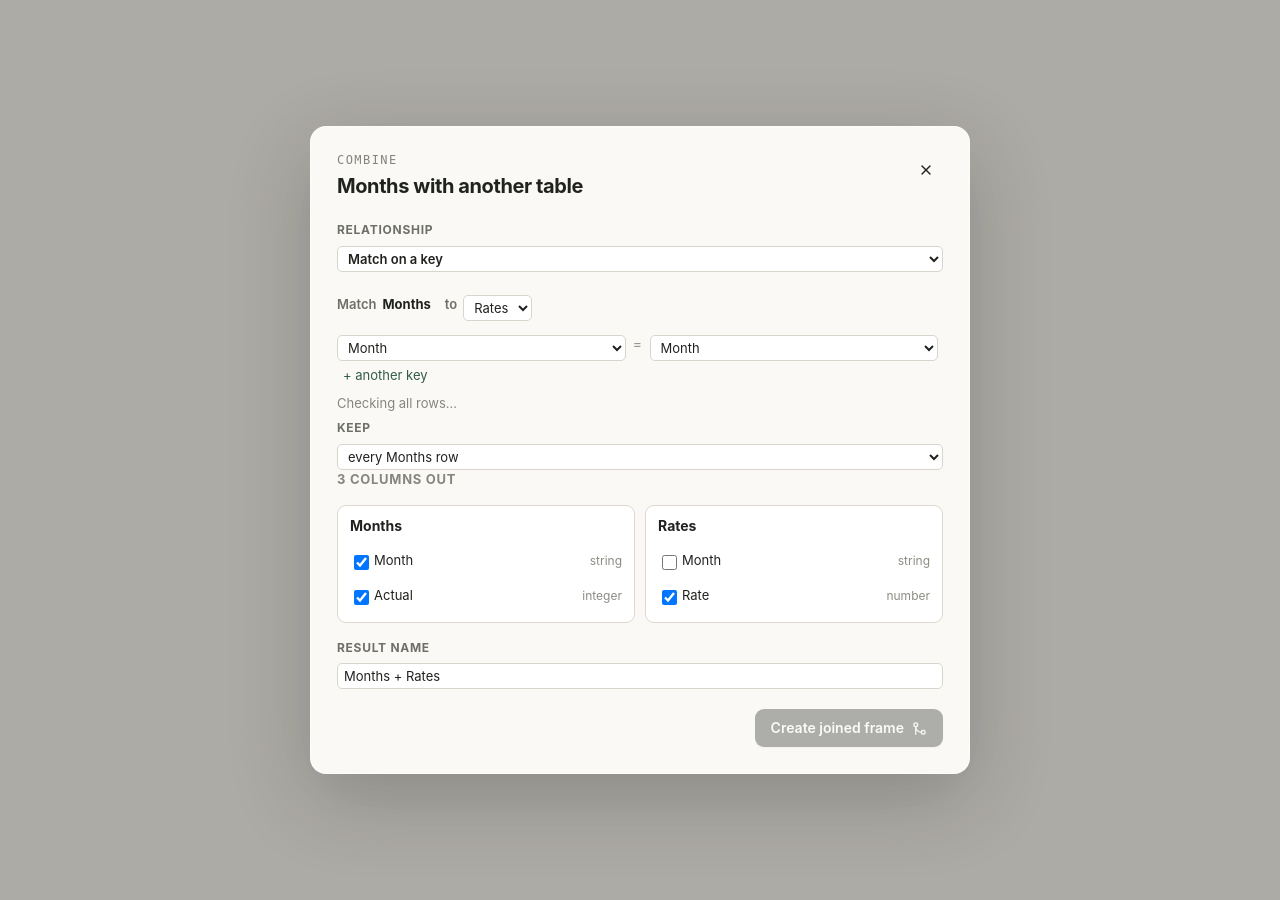
Test case: combine relationships › refuses a pair whose counts do not fit the chosen fill, and says which
This screenshot has width=1280, height=900.
Select "Same rows in order" in the dropdown labelled "Relationship" at x=640, y=258, box [337,246,943,272]
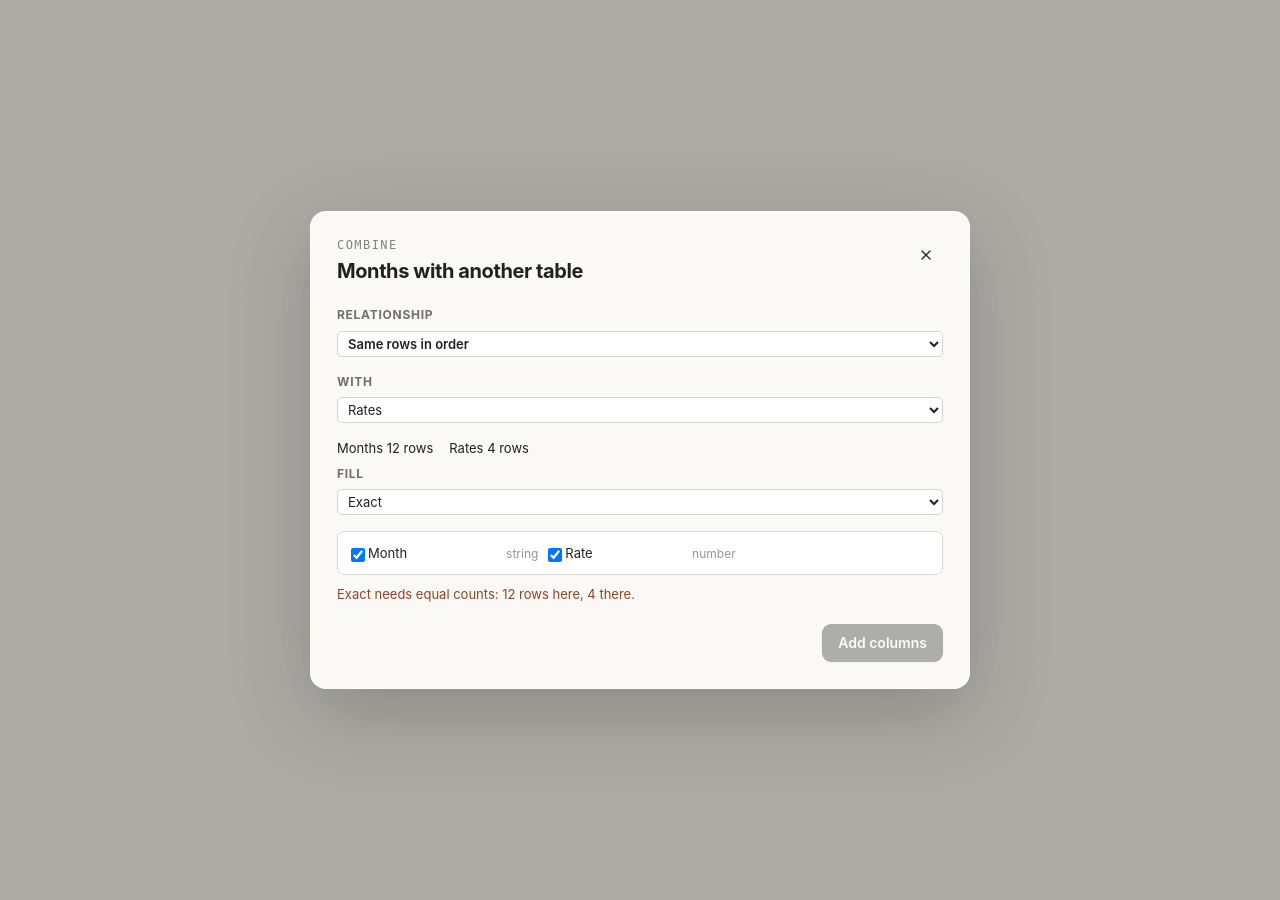
Expected: the button "Add columns" is disabled, [822,624,943,662]
Expected: the text "Exact needs equal counts: 12 rows here, 4 there." is shown, [337,586,635,602]
Select "Repeat to fill" in the dropdown labelled "Fill" at x=640, y=502, box [337,489,943,515]
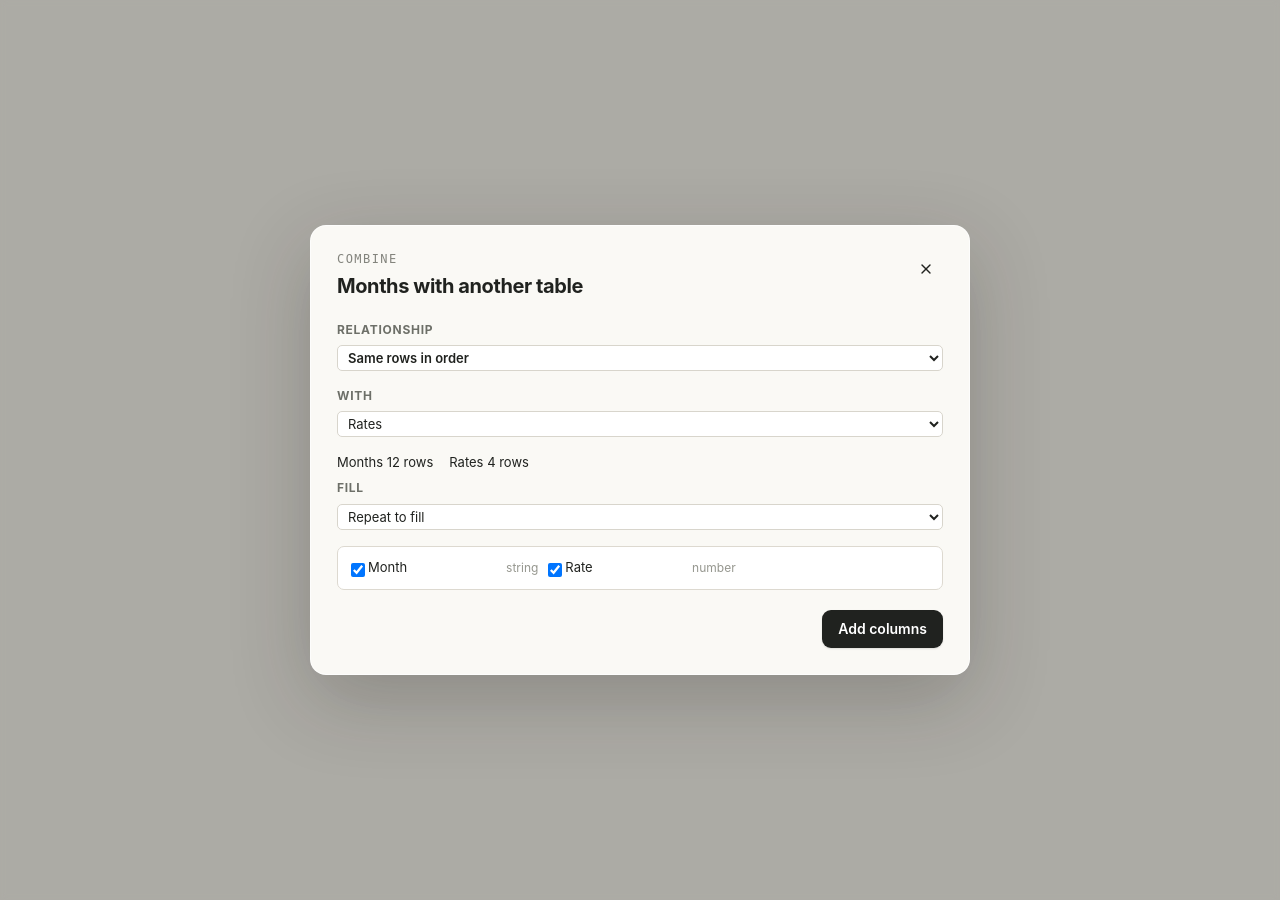
Expected: the button "Add columns" is enabled, [822,610,943,648]
